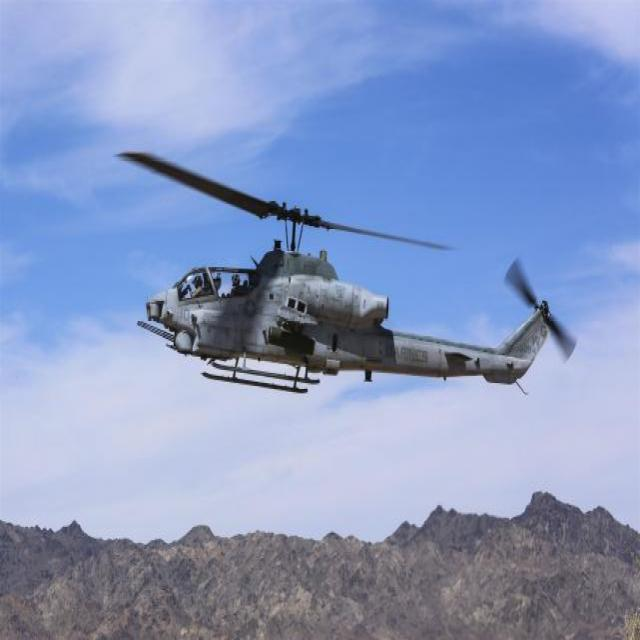MIL_HELO: (108, 146, 582, 407)
